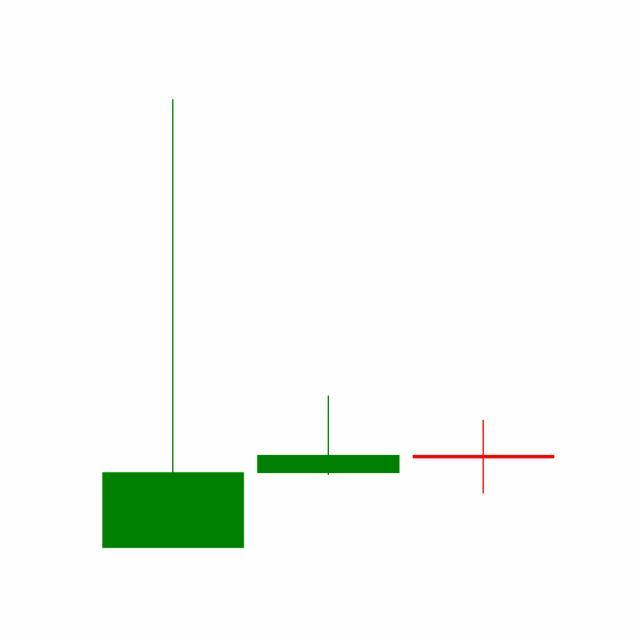Spinning Top: (406, 419, 562, 495)
